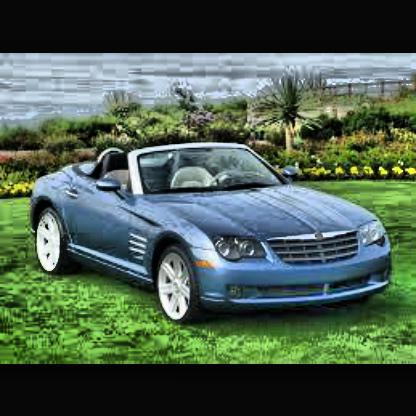Chrysler Crossfire Convertible 2008: (31, 139, 395, 325)
